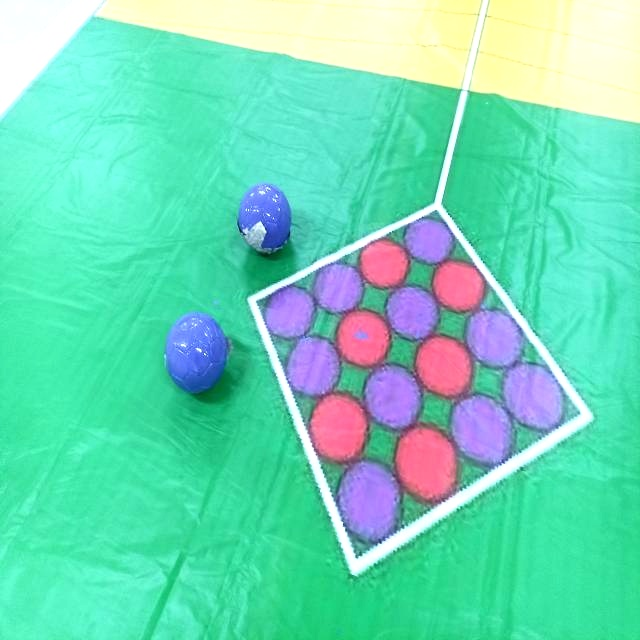purple_ball: (165, 306, 229, 396), (234, 178, 294, 260)
